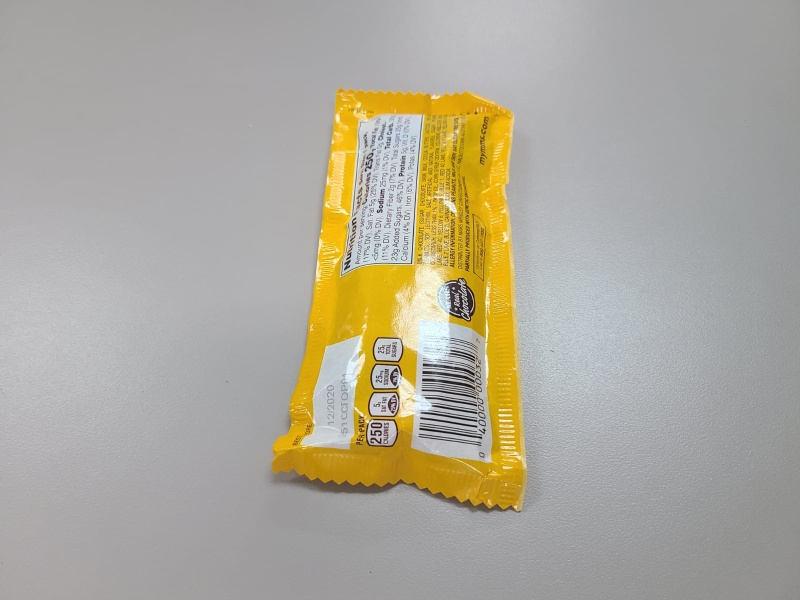m&m: (270, 88, 529, 513)
